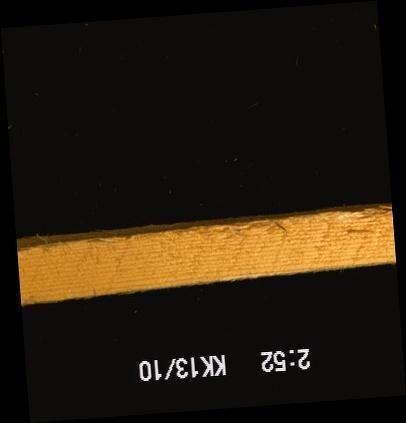wave: (15, 227, 204, 245)
